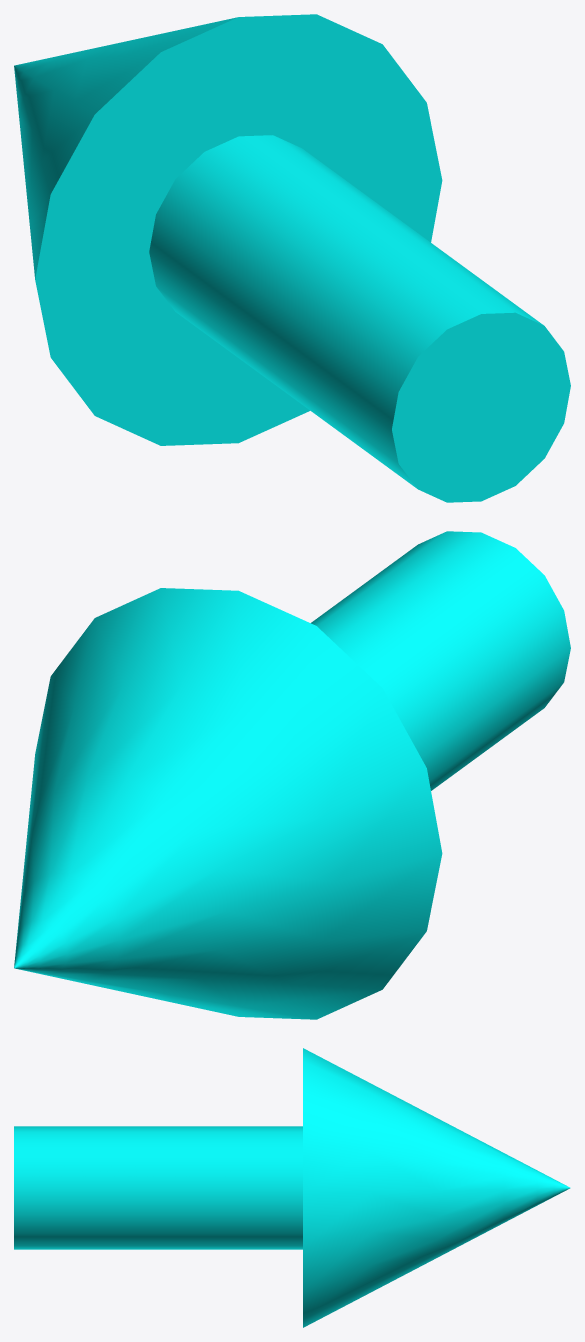
The picture shows the model from 3 angles, top to bottom: view 1: azimuth 30°, elevation 25°; view 2: azimuth 150°, elevation 25°; view 3: azimuth 270°, elevation 25°; orthographic projection. The views are drawn at different scales.
Visible parts, largest first — view 1: 箭头; view 2: 箭头; view 3: 箭头.
Boxes of the visible parts, left/top/right/bottom form: 箭头: left=14, top=14, right=570, bottom=502; 箭头: left=14, top=531, right=570, bottom=1019; 箭头: left=14, top=1048, right=570, bottom=1327.
Bounding box in the file's own units: 38.44 × 38.44 × 76.41.
